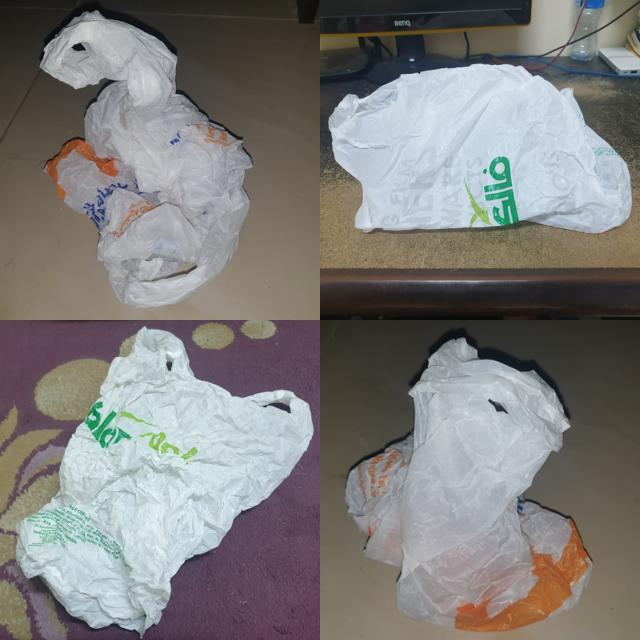Single-layer Plastic: (16, 328, 312, 634), (346, 339, 592, 631), (41, 11, 251, 308), (329, 64, 631, 233)
